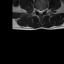CCS_normal: (40, 8, 41, 17)
LFS_normal: (43, 7, 45, 13)
LLS_normal: (41, 8, 43, 14)
RFS_normal: (36, 7, 38, 13)
RLS_normal: (38, 7, 40, 15)
